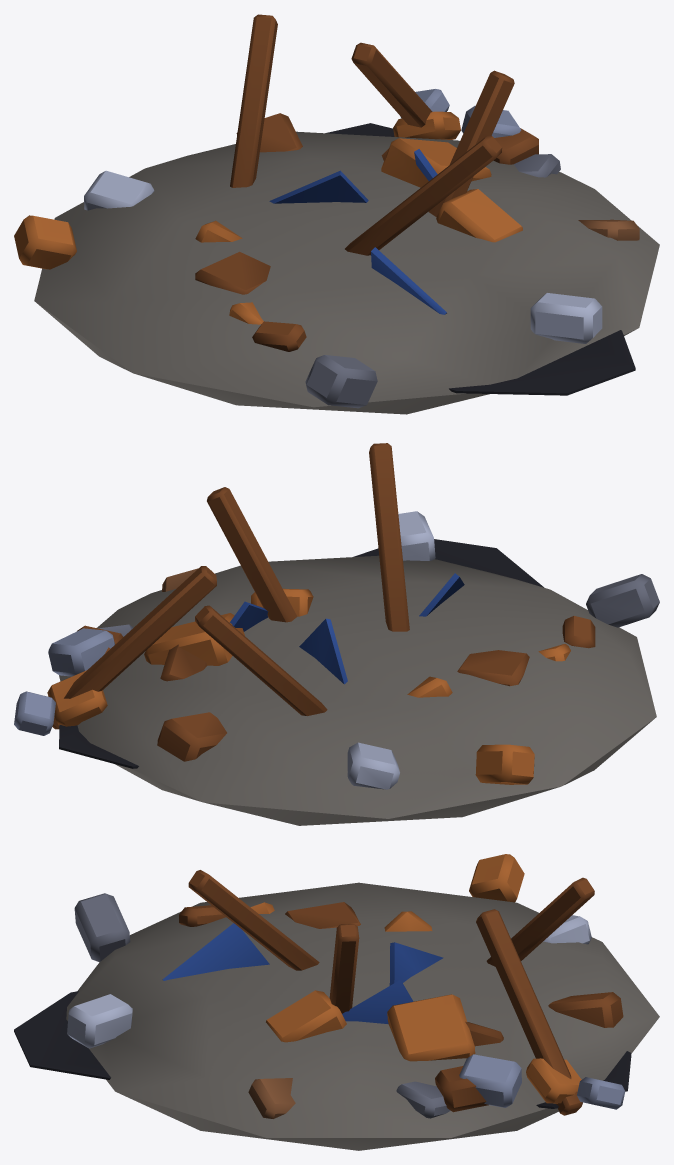
File: b_rubble_3.glb
3 renders of one model, top to bottom at view 1: azimuth 30°, elevation 25°; view 2: azimuth 150°, elevation 25°; view 3: azimuth 270°, elevation 25°, orthographic. The views are drawn at different scales.
Parts seen in each view (by area): view 1: body; view 2: body; view 3: body.
Boxes of the visible parts, <box> form: body: <box>14,14,659,414</box>; body: <box>14,443,659,825</box>; body: <box>14,854,659,1150</box>.
Size of the model in its own units: 4.88 by 2.06 by 5.5.
